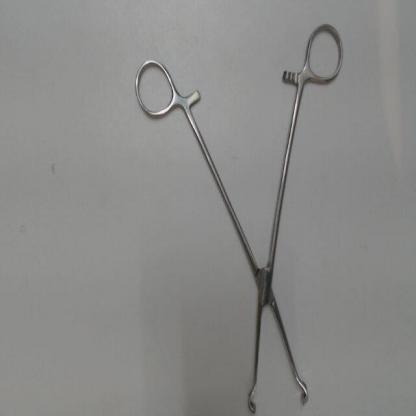8 Babcock Tissue Forceps: (126, 18, 348, 413)
